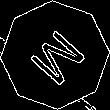M_SE: (21, 21, 89, 89)
